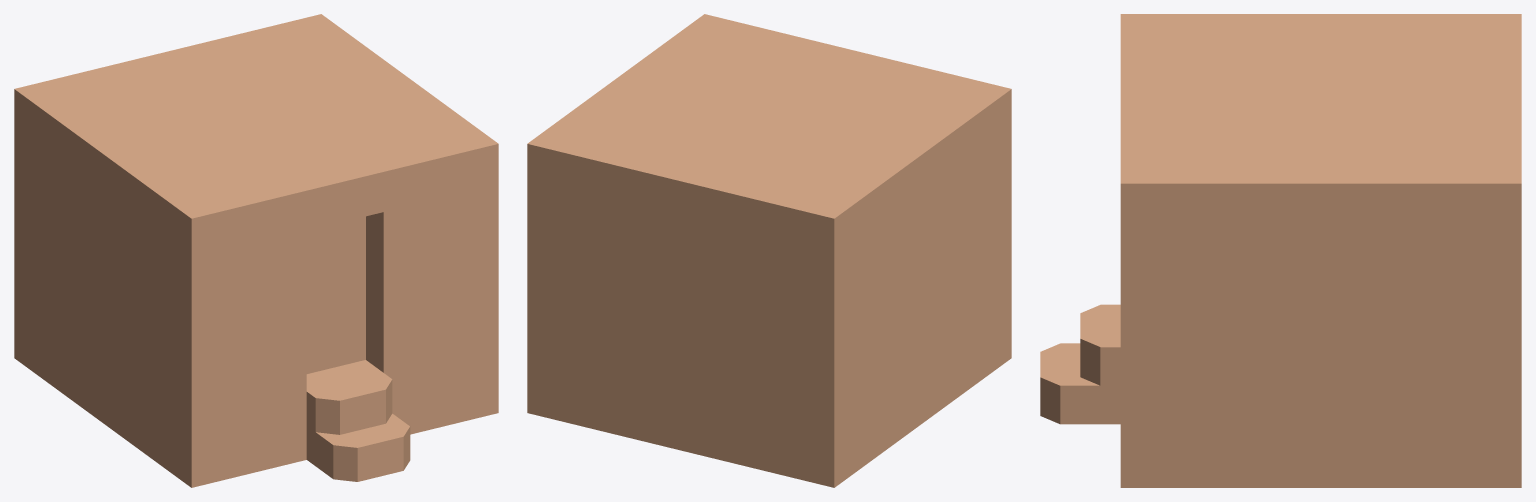
Rendered from building-steps-narrow.obj.
3 renders of one model, left to right at view 1: azimuth 30°, elevation 25°; view 2: azimuth 150°, elevation 25°; view 3: azimuth 270°, elevation 25°, orthographic. The views are drawn at different scales.
Size of the model in its own units: 1 by 0.8375 by 1.2.
